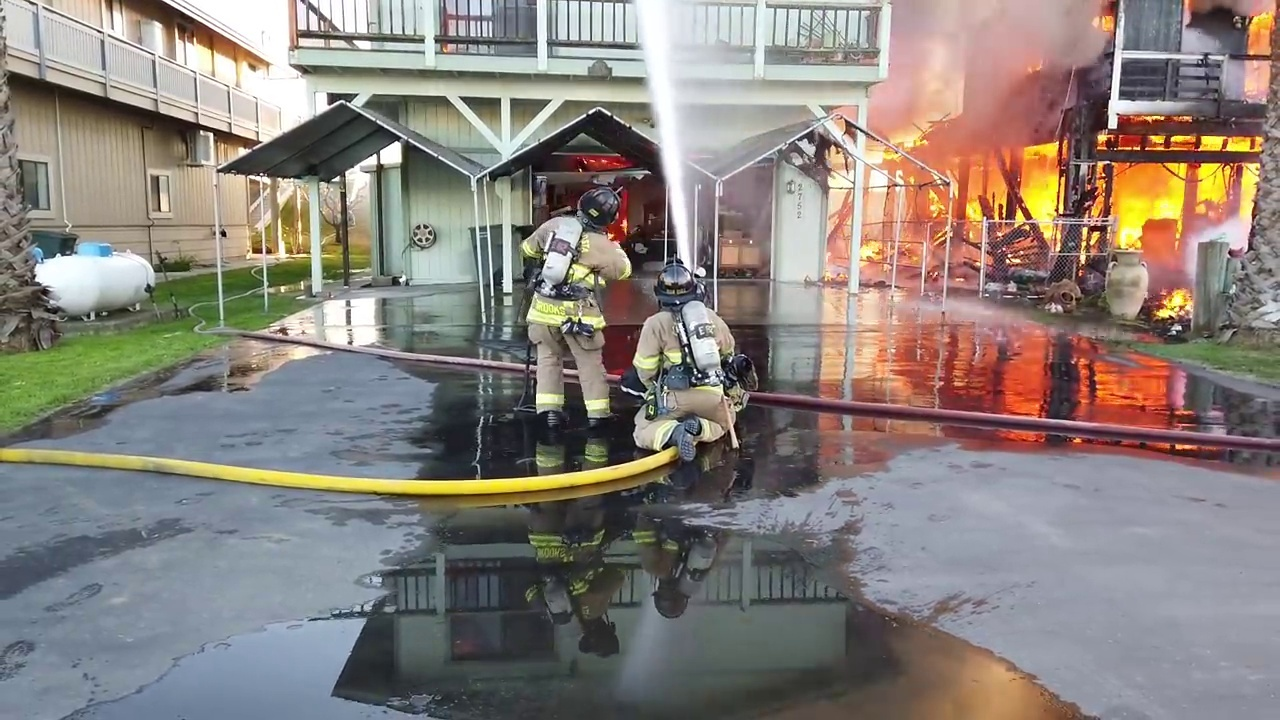fire: (1089, 154, 1260, 219), (1095, 104, 1263, 161), (957, 136, 1066, 220), (1248, 13, 1276, 104), (923, 185, 957, 248), (876, 126, 932, 163), (851, 230, 889, 272), (1156, 284, 1198, 318), (1111, 219, 1147, 249), (1091, 1, 1116, 38), (576, 155, 620, 169), (619, 216, 632, 239), (604, 227, 618, 242)
smoke: (867, 1, 1081, 126), (1177, 219, 1250, 283)
